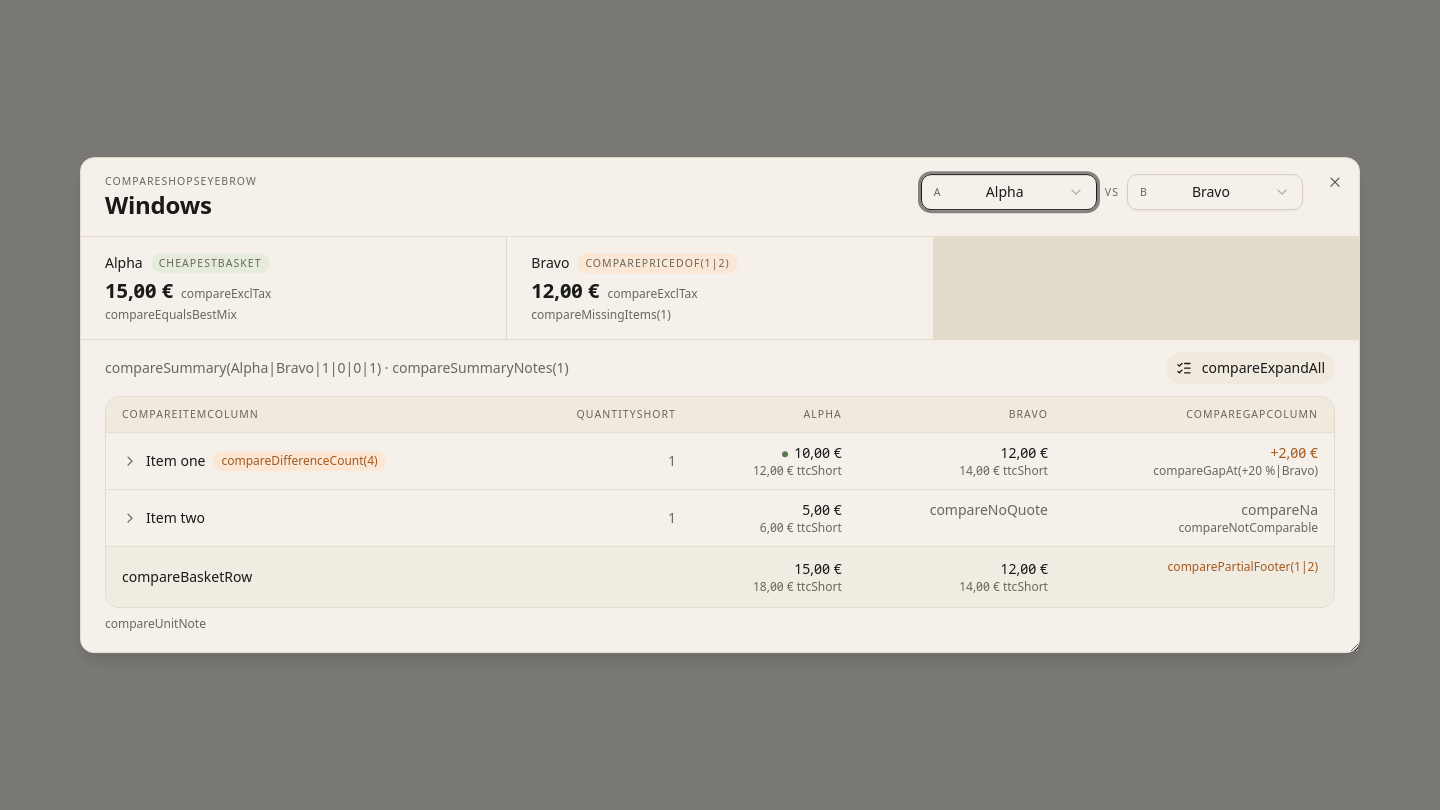
Test: SectionCompareDialog › opens a single row from its chevron without touching the remembered choice
Click the 1st button with test id "compare-row-toggle" at coordinates (130, 461), box [122, 453, 138, 469]
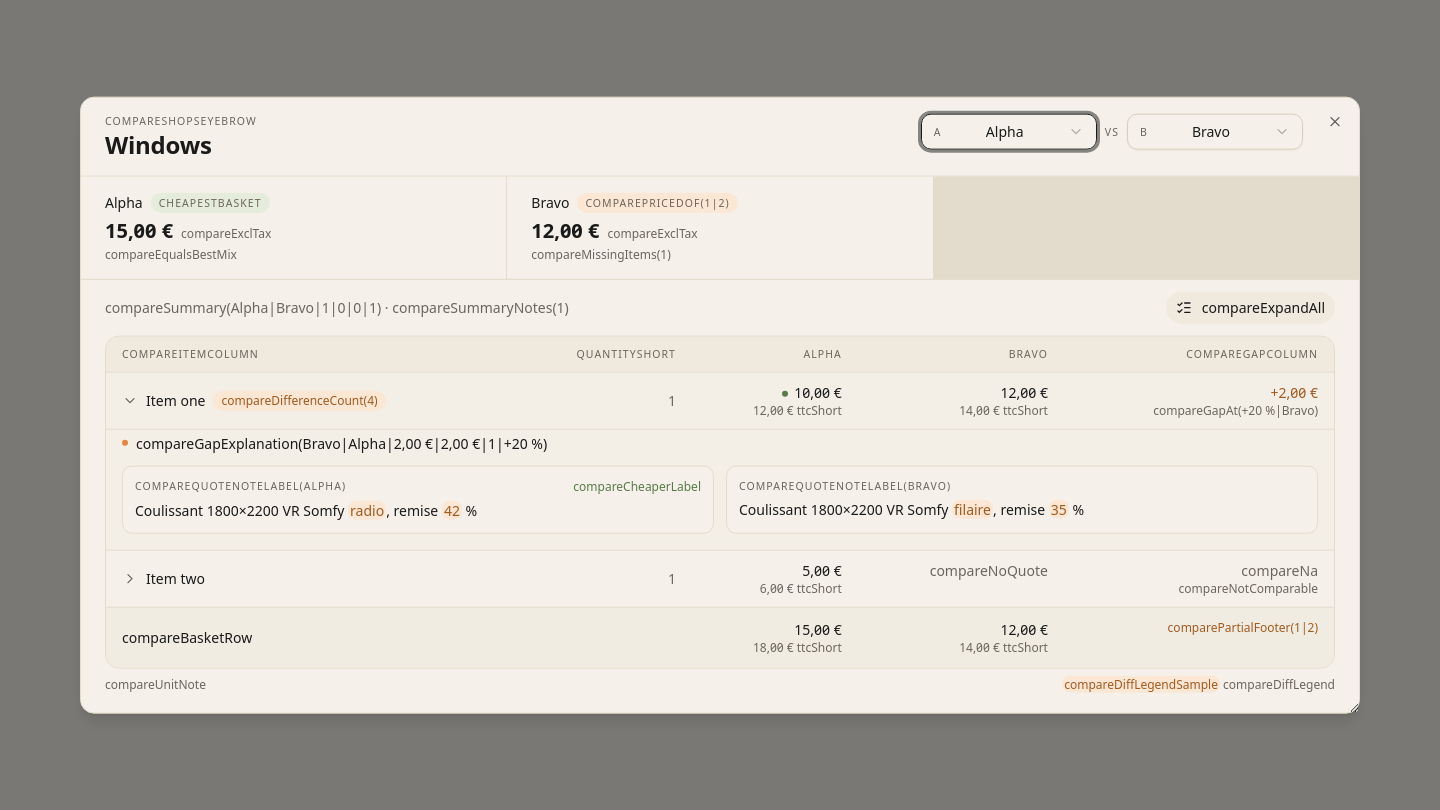
Expected: the number of rows with test id "section-compare-note-row" is 1, [106, 429, 1334, 550]
Expected: the button with test id "compare-row-toggle" is expanded, [122, 392, 138, 408]
